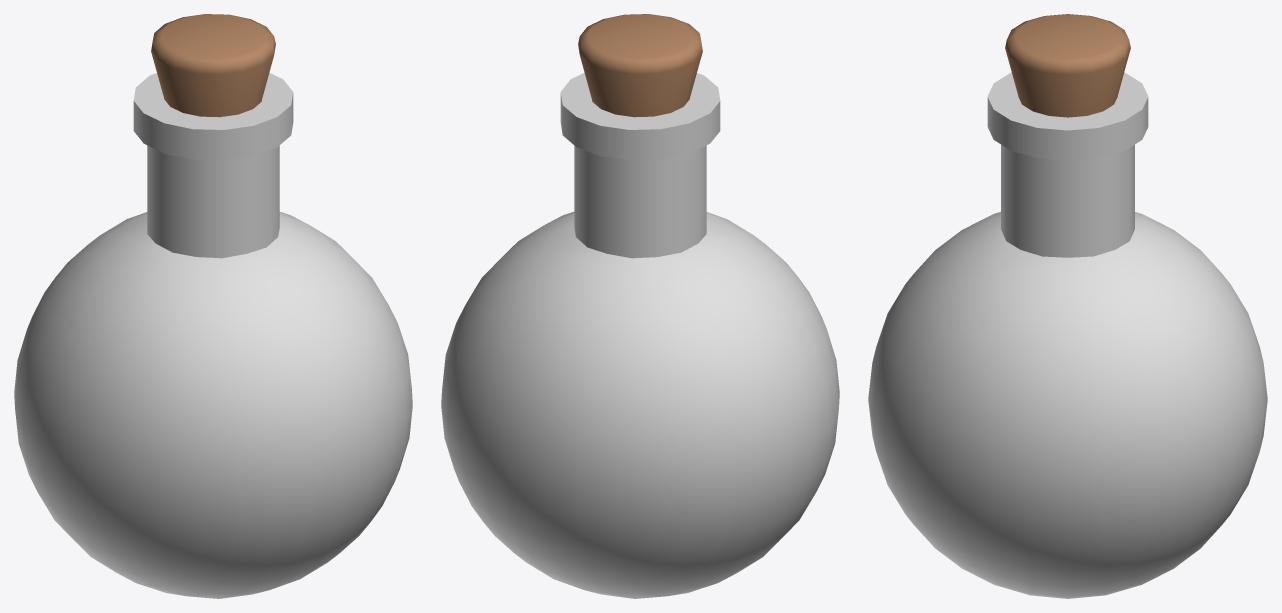
Rendered from hpPotion_model.fbx.
The picture shows the model from 3 angles, left to right: view 1: azimuth 30°, elevation 25°; view 2: azimuth 150°, elevation 25°; view 3: azimuth 270°, elevation 25°; orthographic projection.
Parts seen in each view (by area): view 1: HealthPotion, Corc; view 2: HealthPotion, Corc; view 3: HealthPotion, Corc.
Boxes of the visible parts, bbox=[...] form: HealthPotion: bbox=[14, 73, 412, 598]; Corc: bbox=[151, 14, 275, 117]; HealthPotion: bbox=[441, 73, 839, 598]; Corc: bbox=[578, 14, 702, 117]; HealthPotion: bbox=[868, 72, 1267, 598]; Corc: bbox=[1005, 14, 1130, 117].
Size of the model in its own units: 29.9 by 44.91 by 29.9.
